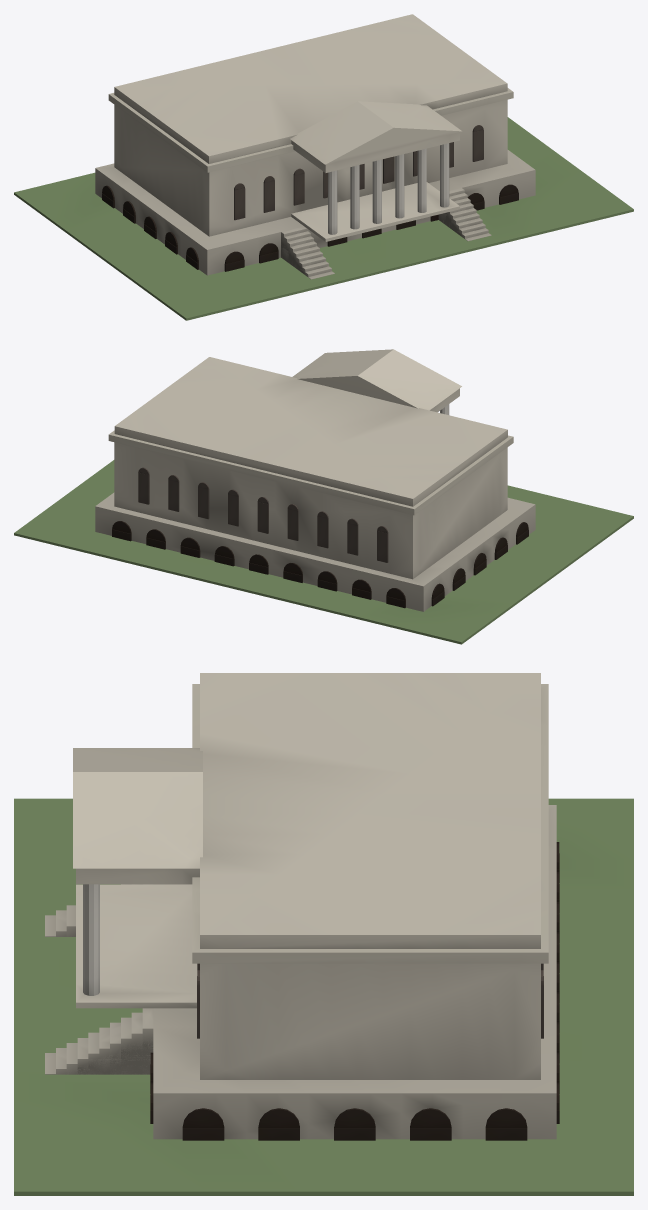
The model's file is begum-samru-palace.glb.
The picture shows the model from 3 angles, top to bottom: view 1: azimuth 30°, elevation 25°; view 2: azimuth 150°, elevation 25°; view 3: azimuth 270°, elevation 25°; orthographic projection. The views are drawn at different scales.
Visible parts, largest first — view 1: p1_house, p0_basement, p2_portico; view 2: p1_house, p0_basement, p2_portico; view 3: p1_house, p0_basement, p2_portico.
Boxes of the visible parts, x1,y1,x2,y2 form: p1_house: (108, 14, 513, 236); p0_basement: (14, 117, 633, 320); p2_portico: (281, 101, 491, 279); p1_house: (108, 357, 513, 579); p0_basement: (14, 460, 633, 644); p2_portico: (292, 349, 461, 414); p1_house: (192, 673, 548, 1079); p0_basement: (14, 798, 633, 1195); p2_portico: (45, 748, 202, 1074).
Bounding box in the file's own units: 60 × 16.22 × 40.
